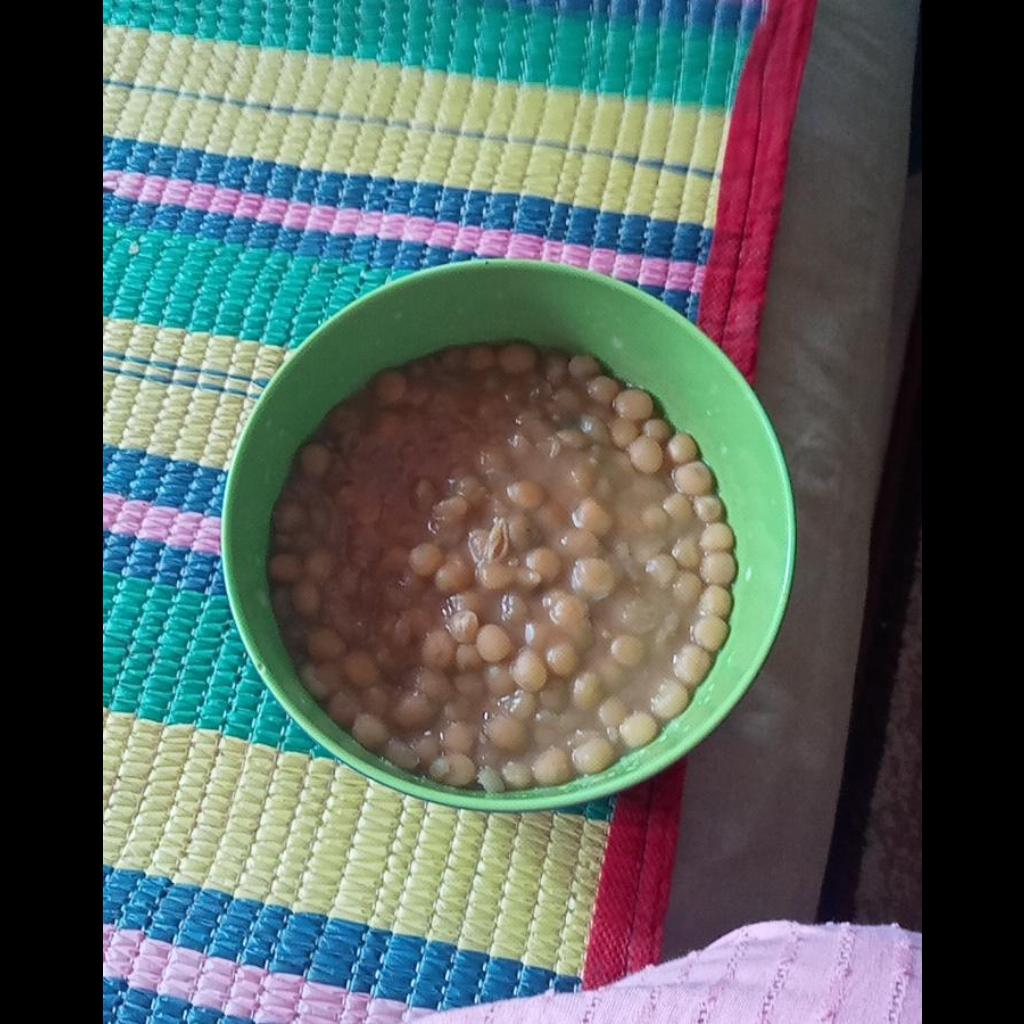daal: (262, 341, 740, 789)
